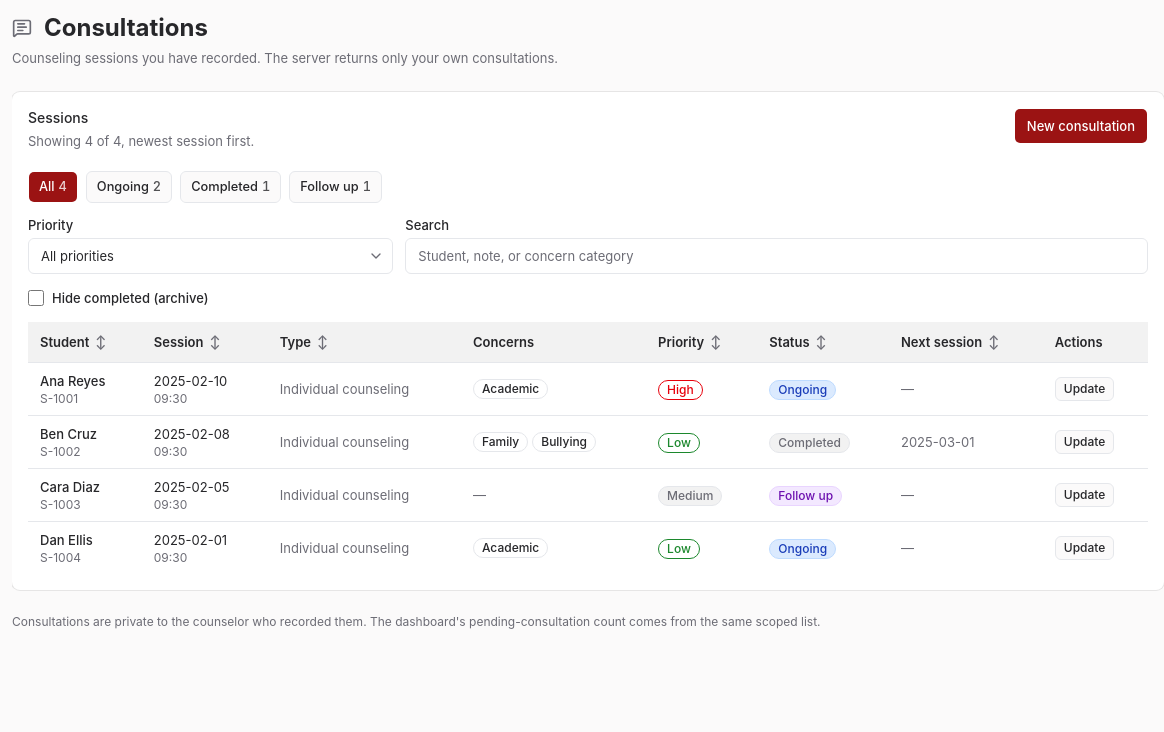
Scenario: ConsultationsPage › narrows to a single status without touching the other chip totals
Expected: the text "Ana Reyes" is shown, [40,373,105,389]
Click the button "Completed 1" at (231, 187), box [180,171,281,203]
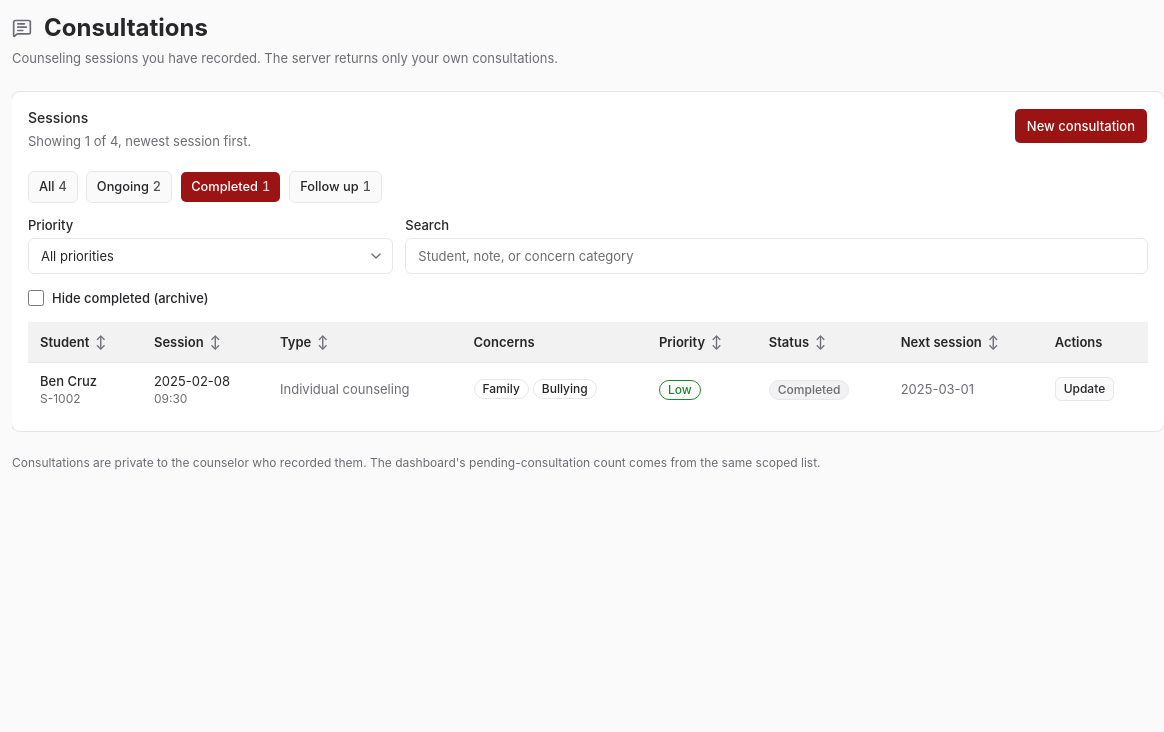
Expected: the text "Ben Cruz" is shown, [40,373,97,389]
Expected: the text "Ana Reyes" is gone
